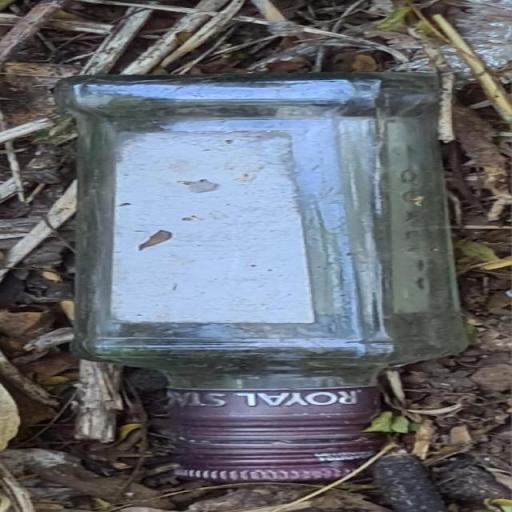glass: (0, 54, 488, 500)
